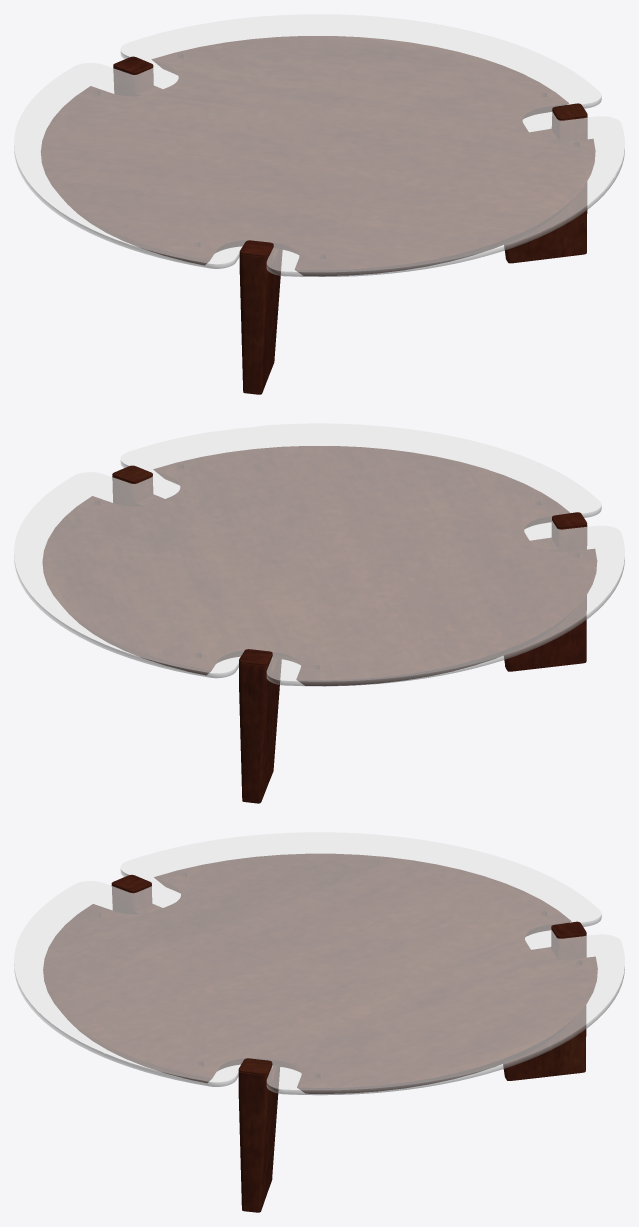
Rendered from StakleniStocic.gltf.
3 views of the same model, one above another, from view 1: azimuth 30°, elevation 25°; view 2: azimuth 150°, elevation 25°; view 3: azimuth 270°, elevation 25° (orthographic).
Parts seen in each view (by area): view 1: Stocic stakleni.002, Stocic stakleni.001; view 2: Stocic stakleni.002, Stocic stakleni.001; view 3: Stocic stakleni.002, Stocic stakleni.001.
Boxes of the visible parts, <box> form: Stocic stakleni.002: <box>14,14,624,276</box>; Stocic stakleni.001: <box>41,36,595,394</box>; Stocic stakleni.002: <box>14,423,624,686</box>; Stocic stakleni.001: <box>42,446,596,803</box>; Stocic stakleni.002: <box>14,832,624,1095</box>; Stocic stakleni.001: <box>43,854,597,1212</box>.
Bounding box in the file's own units: 126 × 31.87 × 126.
2 materials, 2 textured.
